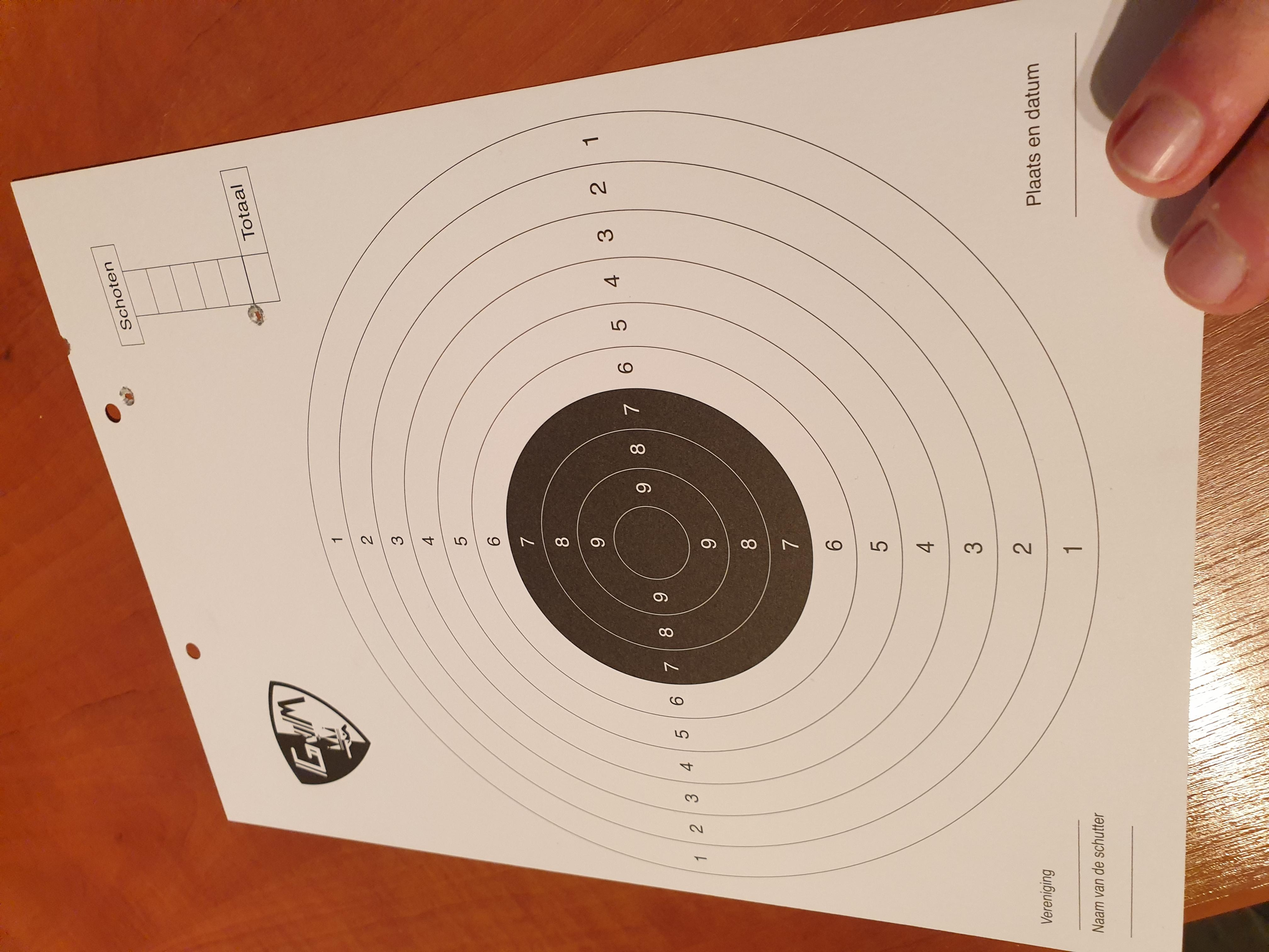hole: (832, 182, 862, 200), (725, 89, 756, 102)
